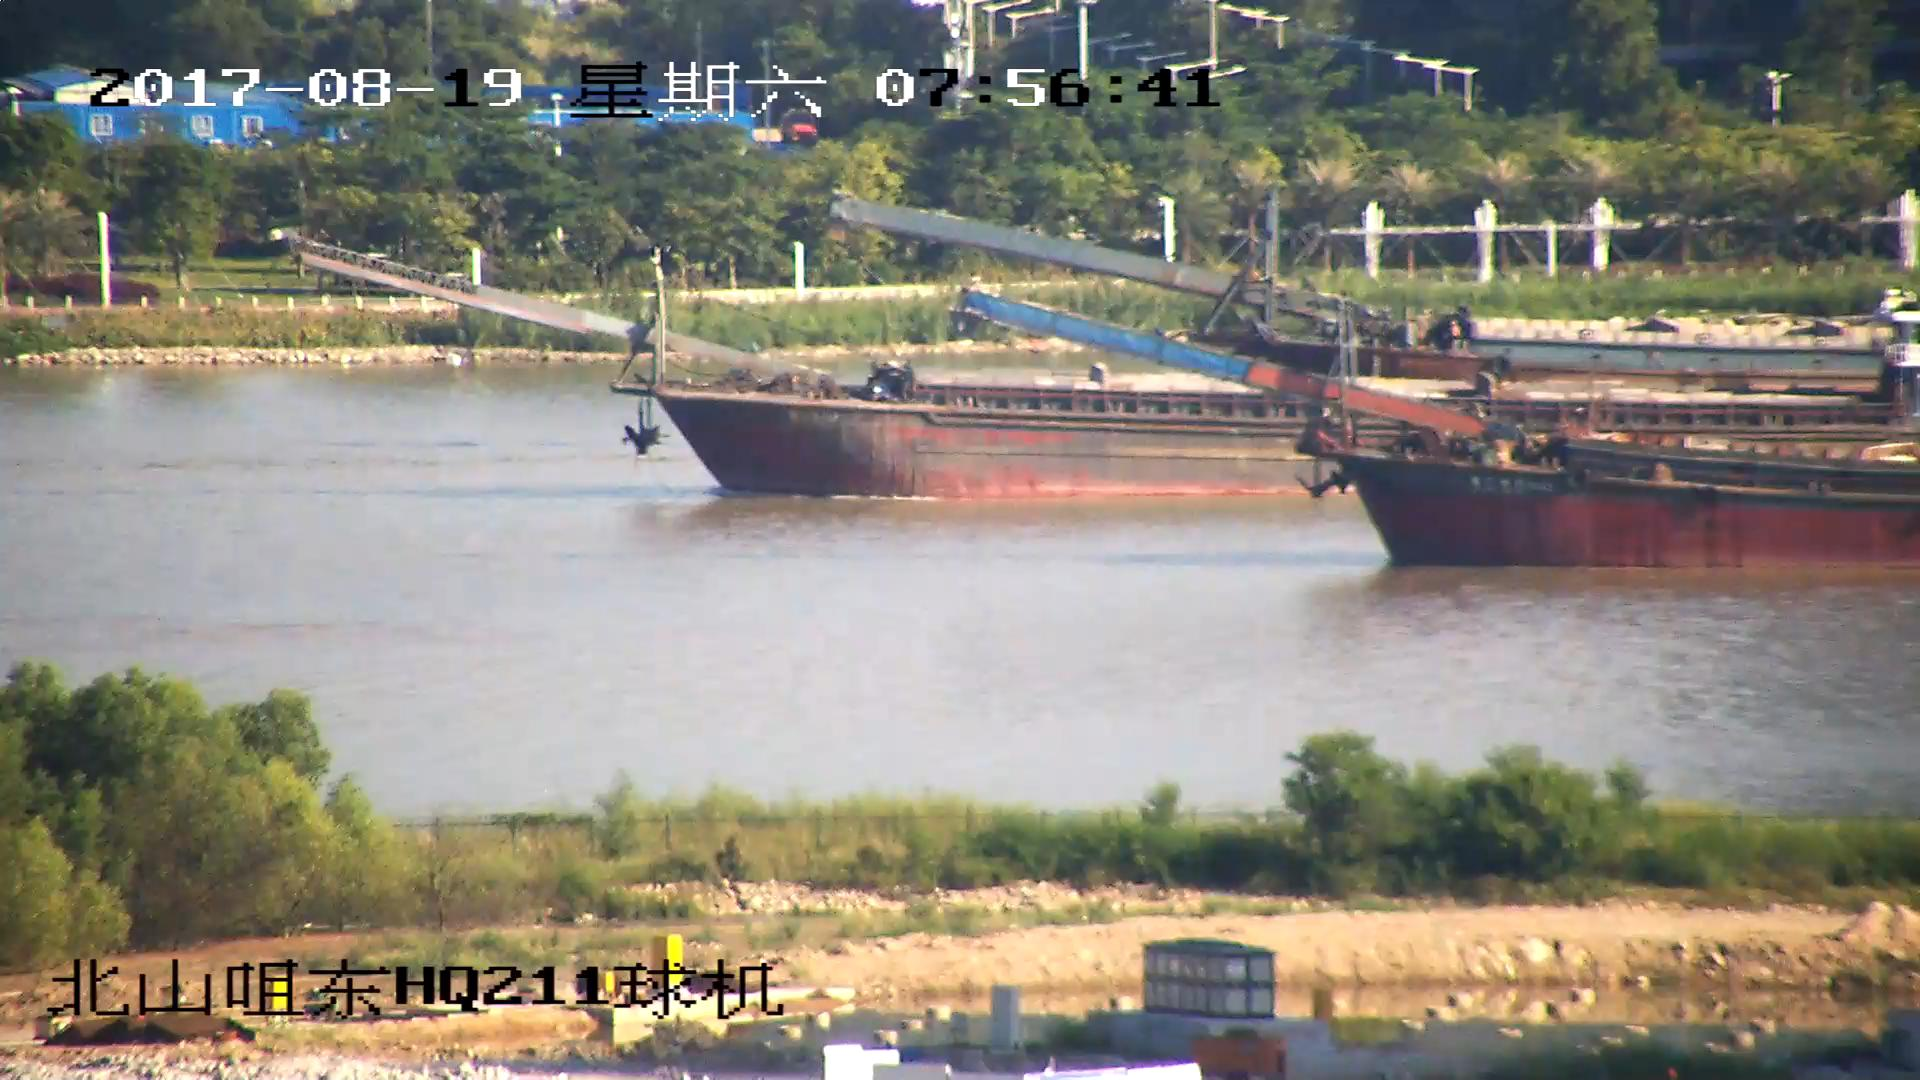bulk cargo carrier: (277, 226, 1294, 505), (968, 295, 1920, 568), (835, 204, 1920, 398)
